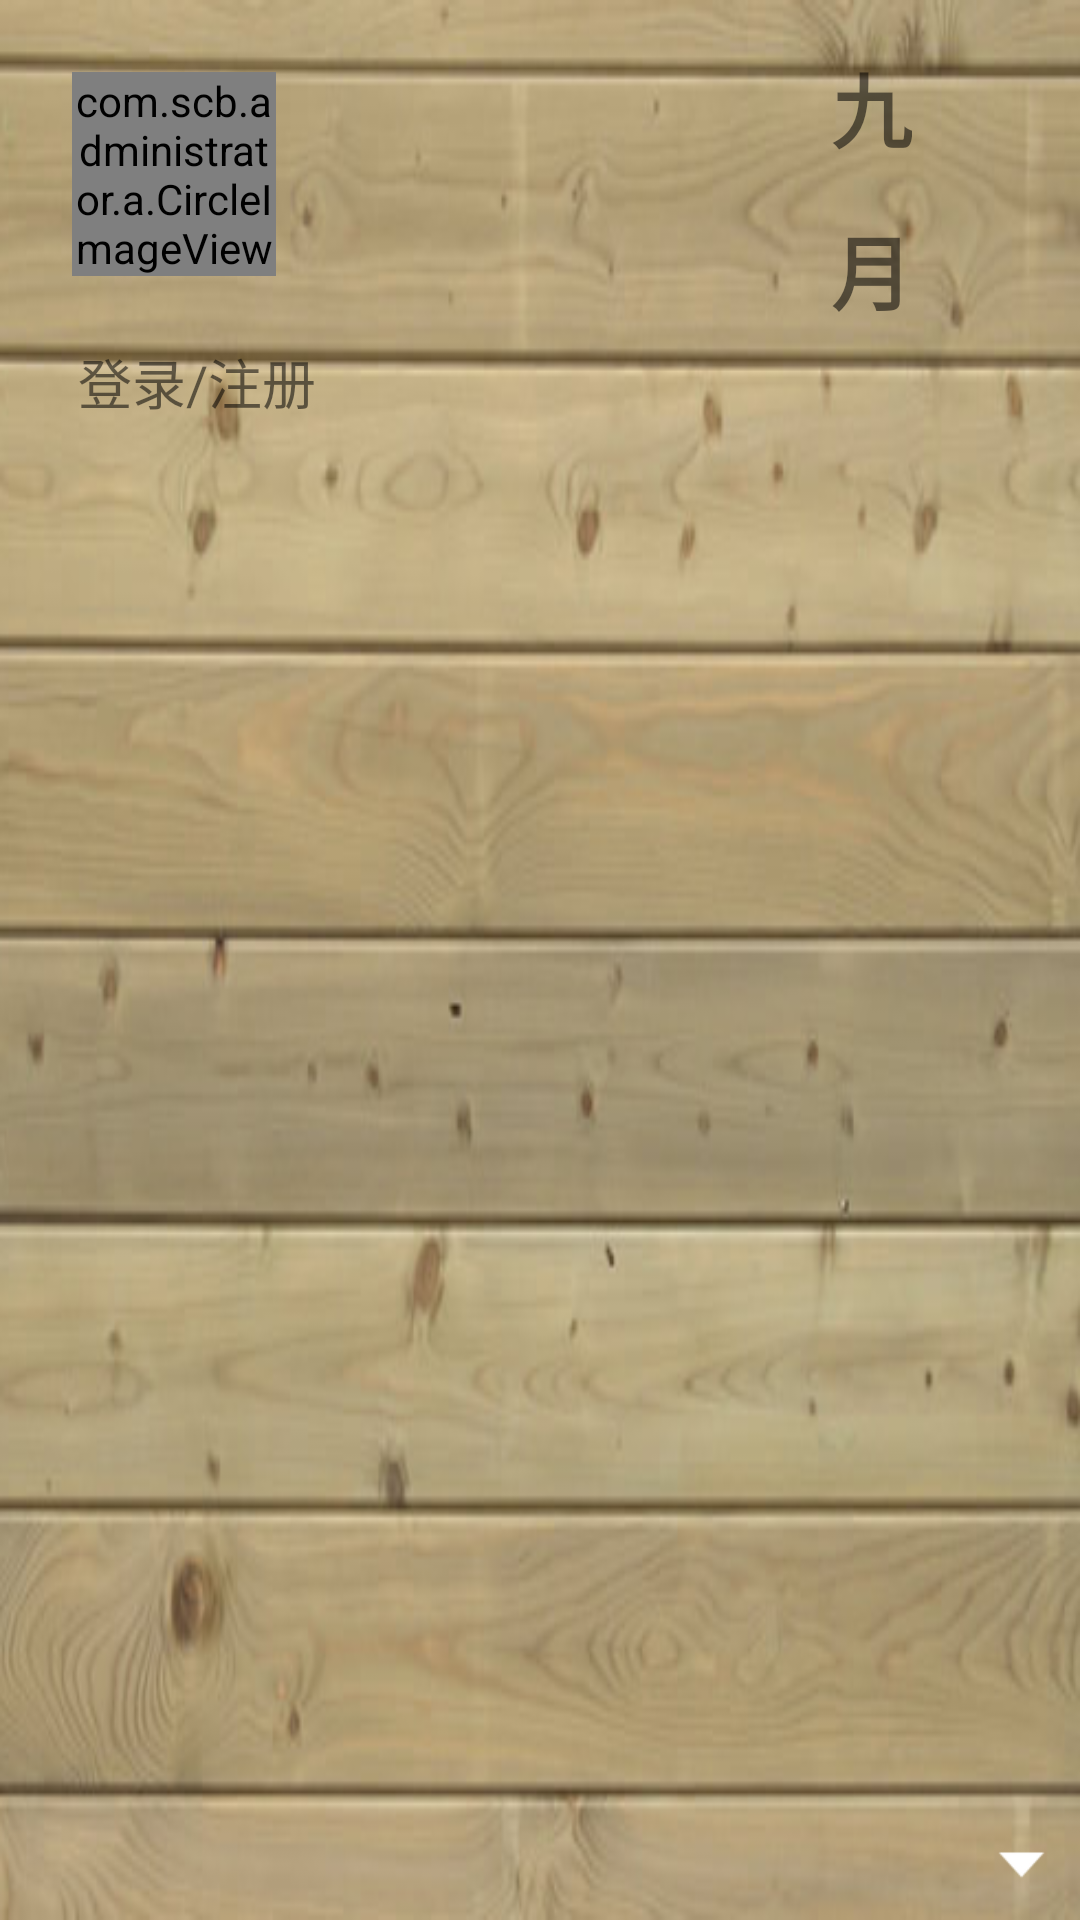

Icons on this 1080×1920 Android screen, each with the point to tap as (x,y):
spinner: (1021,1865)
